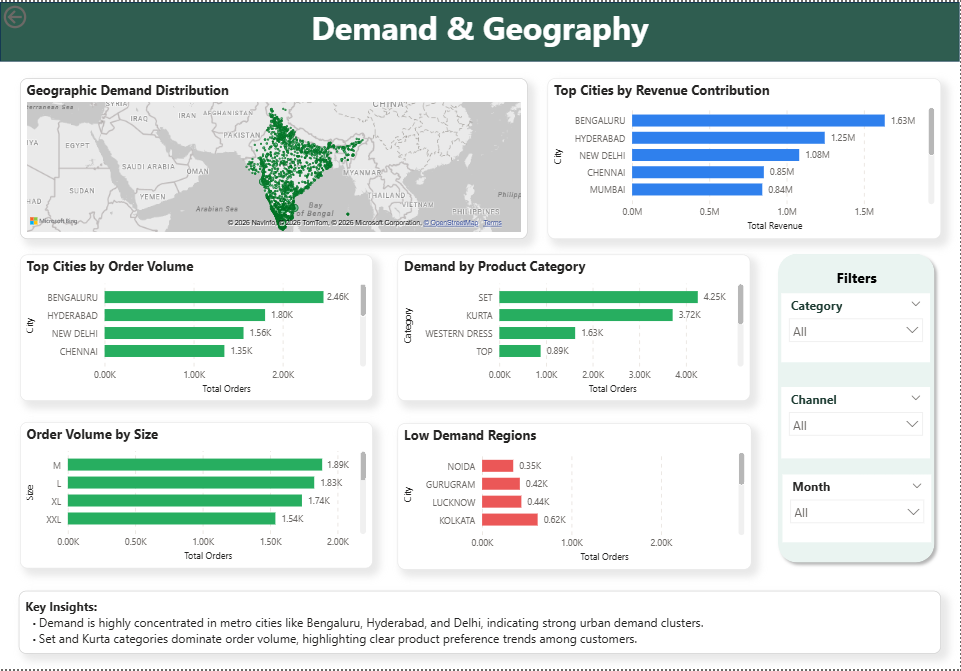

What the dashboard file says about the page in this screenshot:
{"tool":"powerbi","page":{"name":"Demand & Geography","canvas":[1280,890],"ordinal":1},"visuals":[{"type":"shape","box":[0,0,1279.5,79.5],"z":0},{"type":"textbox","box":[0,0,1279.5,89.7],"z":1000},{"type":"actionButton","box":[0,0,100,40],"z":2000},{"type":"shape","box":[1028.1,326.6,226.6,429.7],"z":3000},{"type":"slicer","fields":{"Values":["supply_chain orders.category"]},"box":[1042.2,387.5,198.4,92.2],"z":4000},{"type":"slicer","fields":{"Values":["supply_chain orders.channel"]},"box":[1042.2,512.5,198.4,95.3],"z":5000},{"type":"slicer","fields":{"Values":["supply_chain orders.month"]},"box":[1043.8,629.7,198.4,90.6],"z":6000},{"type":"clusteredBarChart","title":"Top Cities by Revenue Contribution","fields":{"Y":["supply_chain orders.Total Revenue"],"Category":["supply_chain orders.ship_city"]},"box":[729.7,101.6,525,214.1],"z":7000},{"type":"textbox","box":[24.6,785.2,1229.5,83.6],"z":8000},{"type":"map","title":"Geographic Demand Distribution","fields":{"Size":["supply_chain orders.Total Orders"],"Category":["supply_chain orders.Location"]},"box":[26.6,101.6,676.6,214.1],"z":9000},{"type":"clusteredBarChart","title":"Top Cities by Order Volume","fields":{"Category":["supply_chain orders.ship_city"],"Y":["supply_chain orders.Total Orders"]},"box":[26.5,336.8,470.6,195.6],"z":10000},{"type":"clusteredBarChart","title":"Demand by Product Category","fields":{"Y":["supply_chain orders.Total Orders"],"Category":["supply_chain orders.category"]},"box":[529.4,336.8,470.6,195.6],"z":11000},{"type":"textbox","box":[1060.9,350,160.9,37.5],"z":12000},{"type":"clusteredBarChart","title":"Order Volume by Size","fields":{"Y":["supply_chain orders.Total Orders"],"Category":["supply_chain orders.size"]},"box":[26.5,560.3,470.6,195.6],"z":13000},{"type":"clusteredBarChart","title":"Low Demand Regions","fields":{"Category":["supply_chain orders.ship_city"],"Y":["supply_chain orders.Total Orders"]},"box":[529.7,560.9,471.9,195.3],"z":14000}]}

Visuals, with their boxes in screenshot pixels (x1, y1, x2, y2), scaled from the page's 1280x890 canvas onto the 961x671 screenshot:
shape: <region>0, 0, 960, 60</region>
textbox: <region>0, 0, 960, 68</region>
actionButton: <region>0, 0, 75, 30</region>
shape: <region>772, 246, 942, 570</region>
slicer - supply_chain orders.category: <region>782, 292, 931, 362</region>
slicer - supply_chain orders.channel: <region>782, 386, 931, 458</region>
slicer - supply_chain orders.month: <region>784, 475, 933, 543</region>
"Top Cities by Revenue Contribution" clusteredBarChart: <region>548, 77, 942, 238</region>
textbox: <region>18, 592, 942, 655</region>
"Geographic Demand Distribution" map: <region>20, 77, 528, 238</region>
"Top Cities by Order Volume" clusteredBarChart: <region>20, 254, 373, 401</region>
"Demand by Product Category" clusteredBarChart: <region>397, 254, 751, 401</region>
textbox: <region>797, 264, 917, 292</region>
"Order Volume by Size" clusteredBarChart: <region>20, 422, 373, 570</region>
"Low Demand Regions" clusteredBarChart: <region>398, 423, 752, 570</region>
